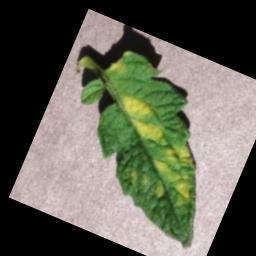Leaf_Mold: (138, 156, 200, 210), (157, 135, 203, 173), (122, 114, 168, 147), (114, 91, 157, 125), (107, 44, 134, 77), (124, 166, 140, 185)
